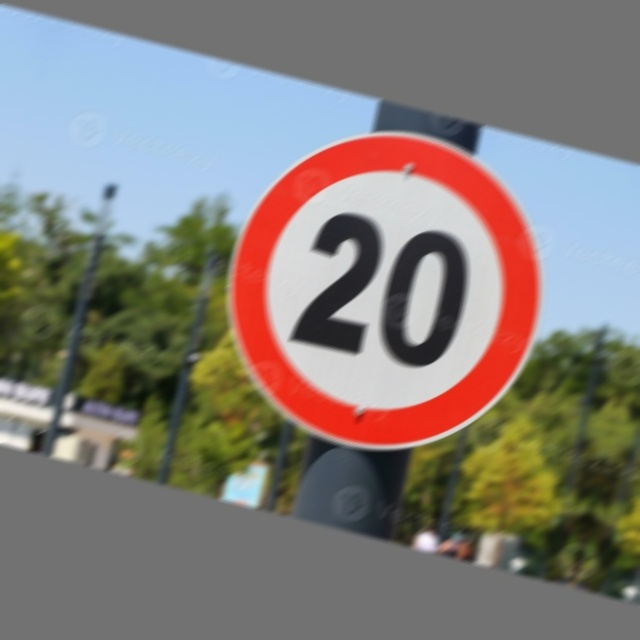Speed_Limit_20: (202, 94, 571, 469)
